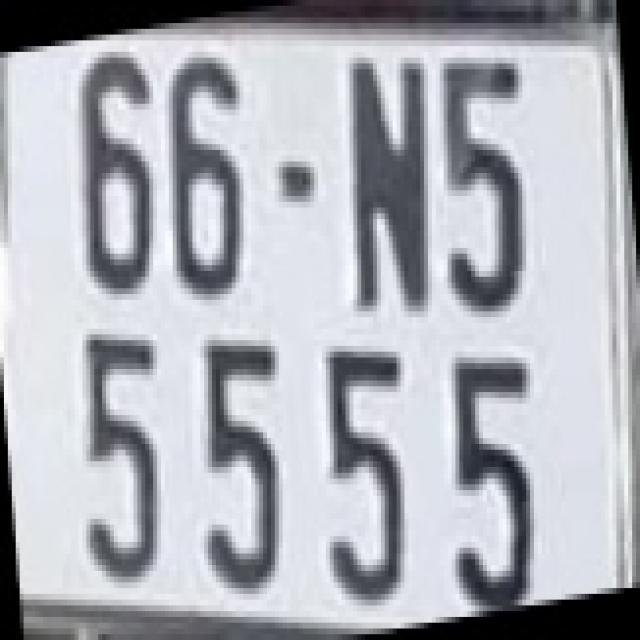5: (440, 51, 530, 312), (448, 352, 534, 606), (200, 334, 283, 588), (326, 346, 408, 600), (82, 328, 160, 582)
6: (164, 52, 243, 294), (78, 52, 154, 288)
N: (341, 51, 432, 312)
